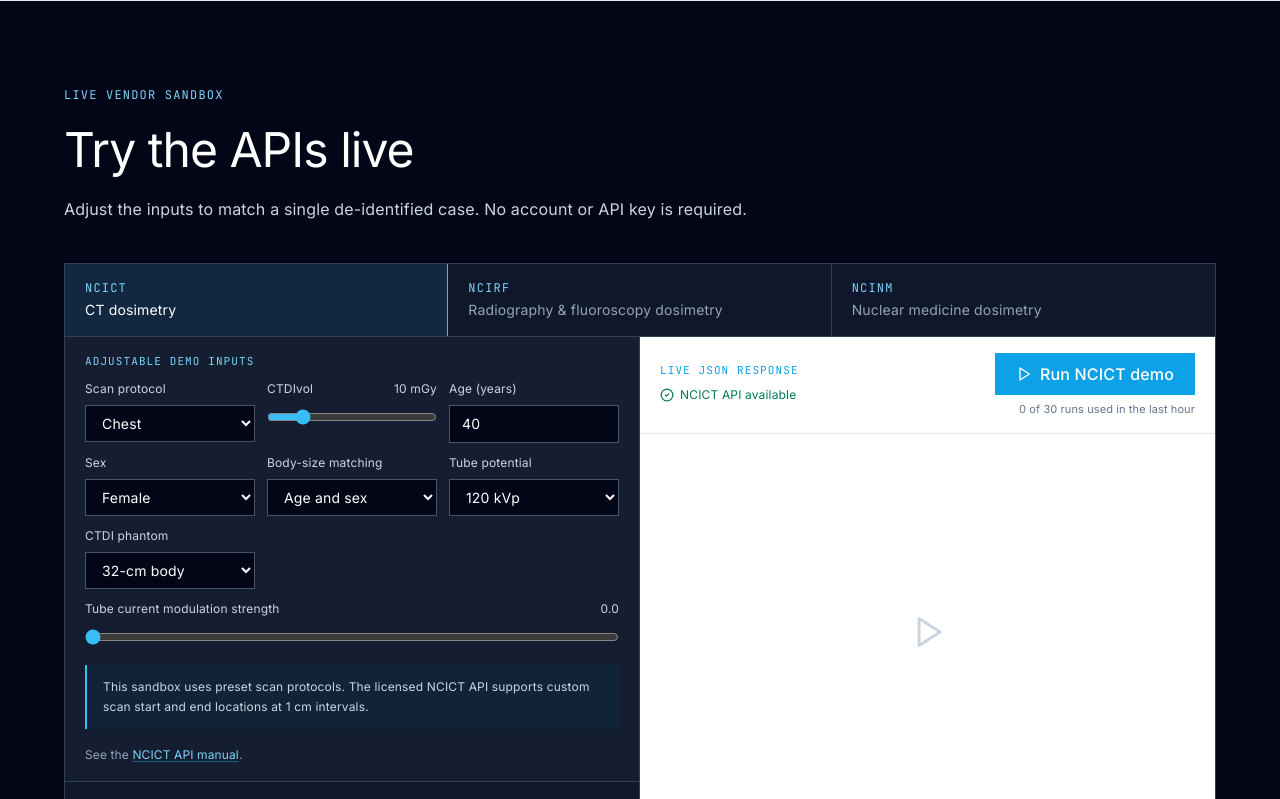
it: vendor API sandbox › explains when the calculation server is under maintenance
expect the text "NCICT API available" is shown: met, box left=680, top=387, right=796, bottom=403
Click the button "Run NCICT demo".
click(1095, 374)  # box left=995, top=353, right=1195, bottom=395
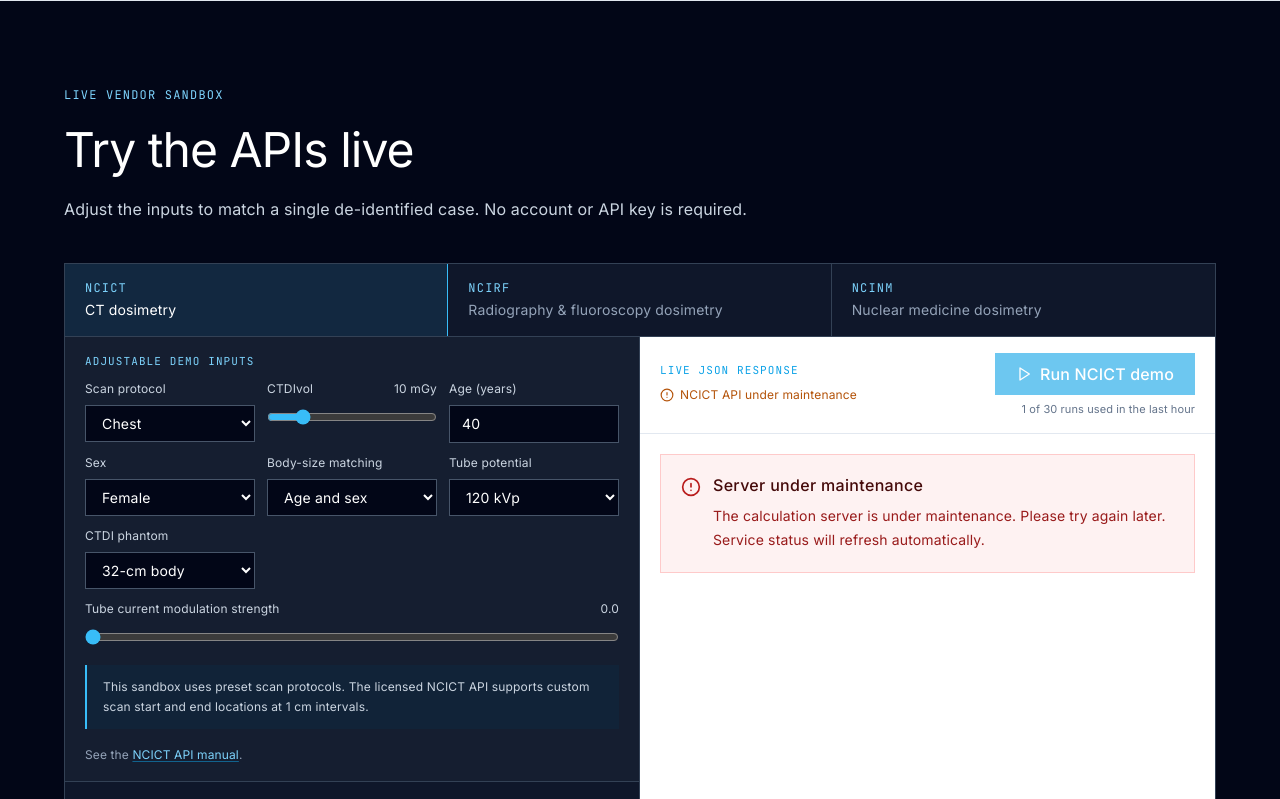
expect the heading "Server under maintenance" is shown: met, box left=713, top=475, right=923, bottom=495
expect the text "status will refresh automatically" is shown: met, box left=713, top=507, right=1166, bottom=548
expect the message with test id "vendor-api-service-status" shows "under maintenance": met, box left=680, top=387, right=857, bottom=402
